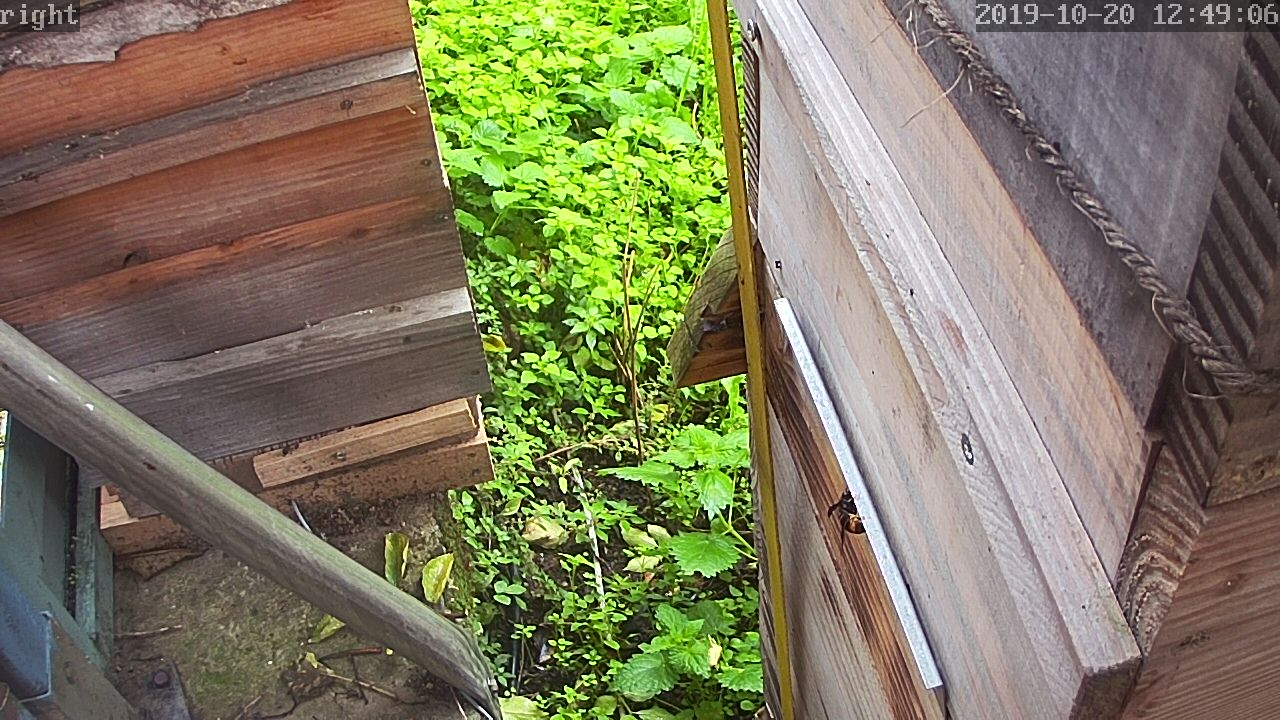bee: (822, 486, 867, 541)
